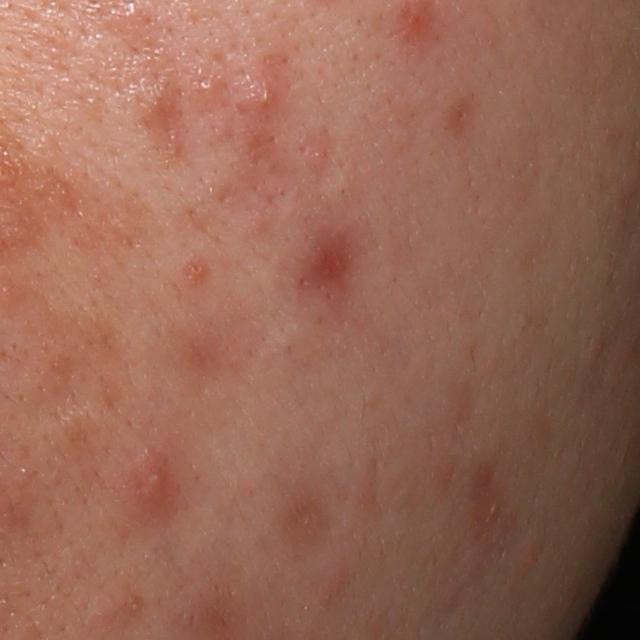papule: (280, 225, 365, 306), (131, 447, 177, 516), (237, 71, 287, 129), (130, 75, 177, 131), (184, 257, 210, 282)
